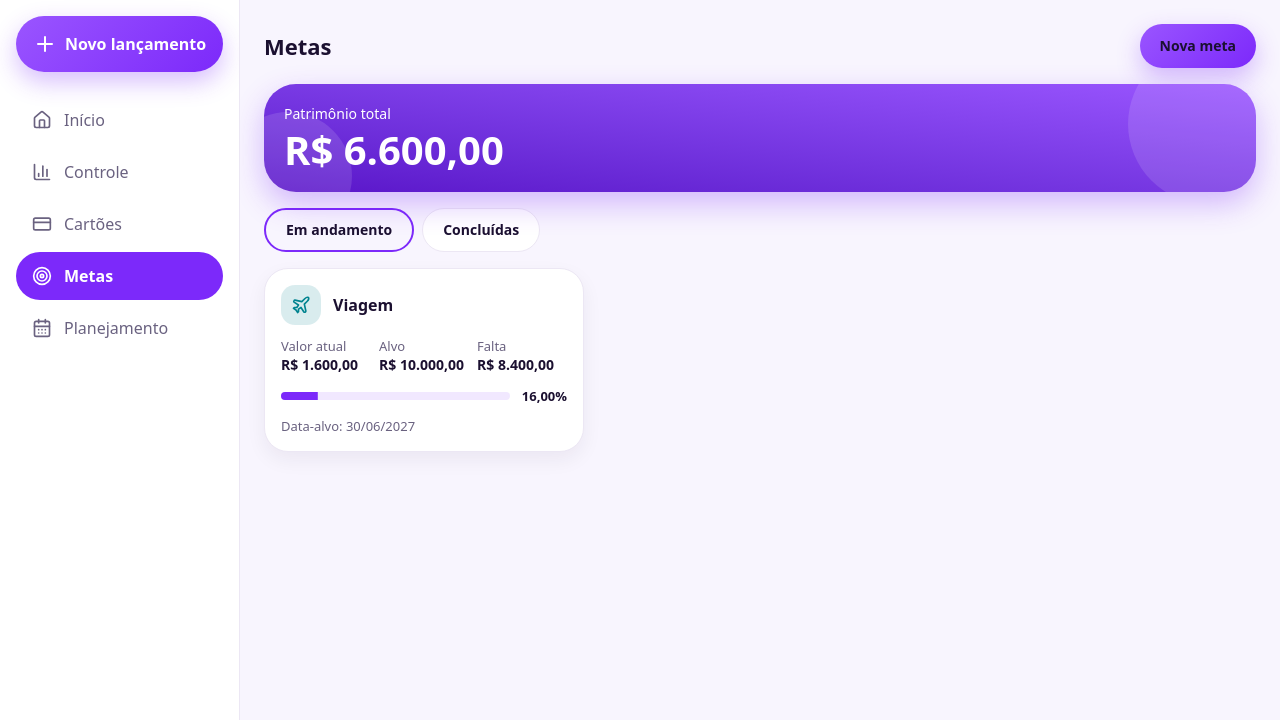
Metas: lista e patrimônio (CA-6.09, CA-6.10) › meta acima do alvo (110,00 %) fica em Concluídas com falta R$ 0,00
Expected: the text "Viagem" is shown, left=333, top=294, right=393, bottom=316
Expected: the text "Reserva" is not shown
Click the button "Concluídas".
click(481, 230)  # box left=422, top=208, right=540, bottom=252
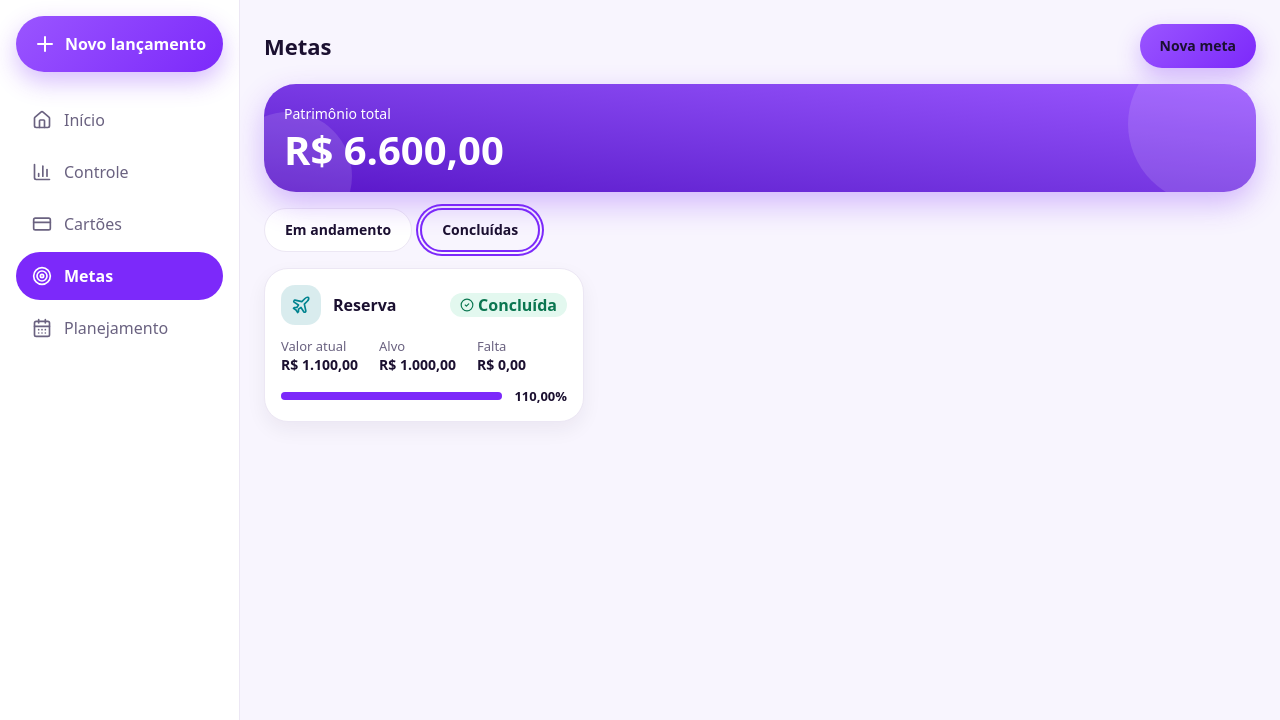
Expected: the link "Reserva" shows "110,00%", left=264, top=268, right=584, bottom=422
Expected: the element showing "R$ 0,00" is shown, left=477, top=355, right=526, bottom=374
